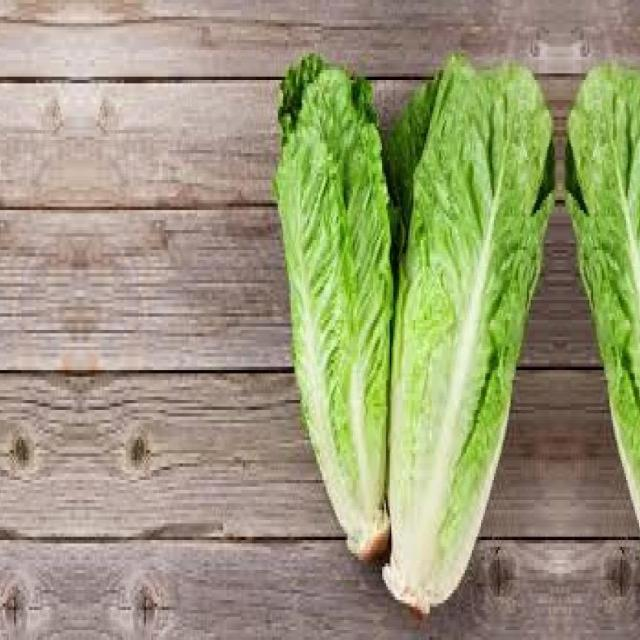healthy: (380, 56, 558, 620), (272, 55, 400, 559), (562, 56, 640, 620)
